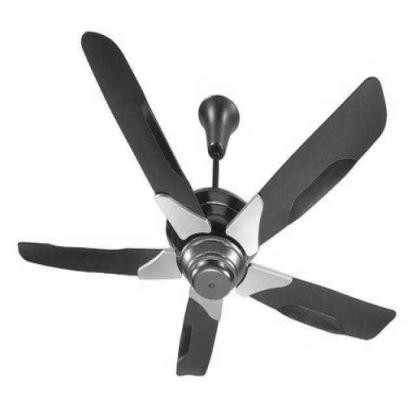ceiling-fan: (16, 29, 395, 376)
